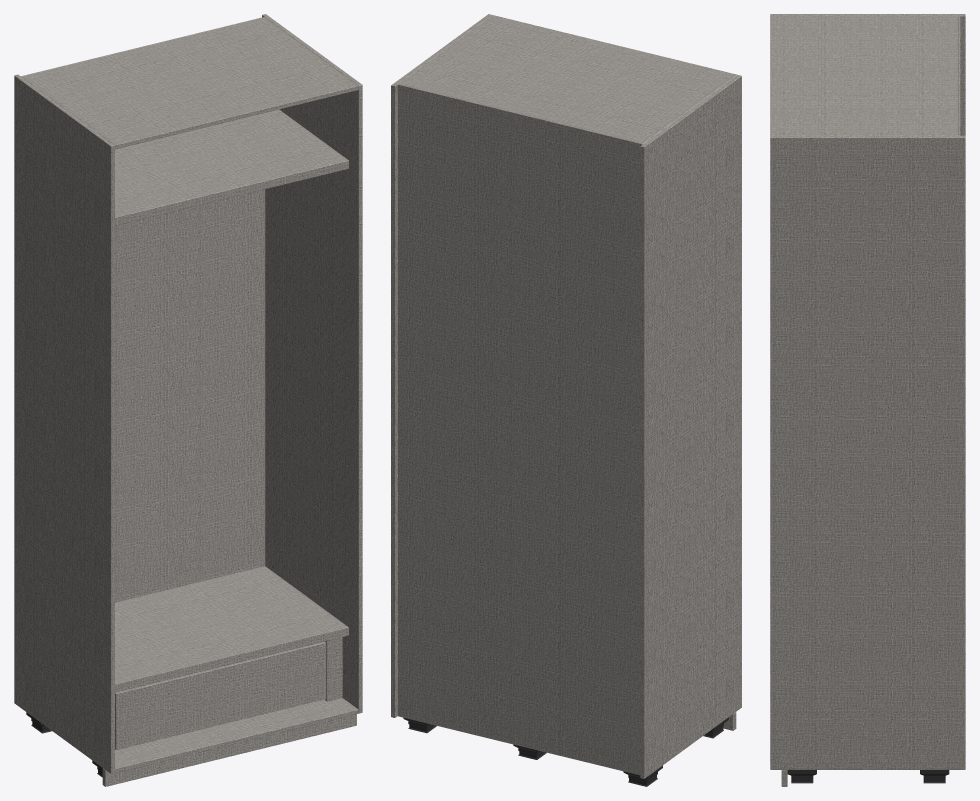
File: cbib12128.gltf
3 renders of one model, left to right at view 1: azimuth 30°, elevation 25°; view 2: azimuth 150°, elevation 25°; view 3: azimuth 270°, elevation 25°, orthographic.
Parts seen in each view (by area): view 1: CBIB12128; view 2: CBIB12128; view 3: CBIB12128.
Part boxes in pixels (<box>): CBIB12128: <box>14,14,362,786</box>; CBIB12128: <box>391,14,741,786</box>; CBIB12128: <box>770,14,965,786</box>.
Size of the model in its own units: 0.9 by 2.2 by 0.6.
3 materials, 2 textured.
